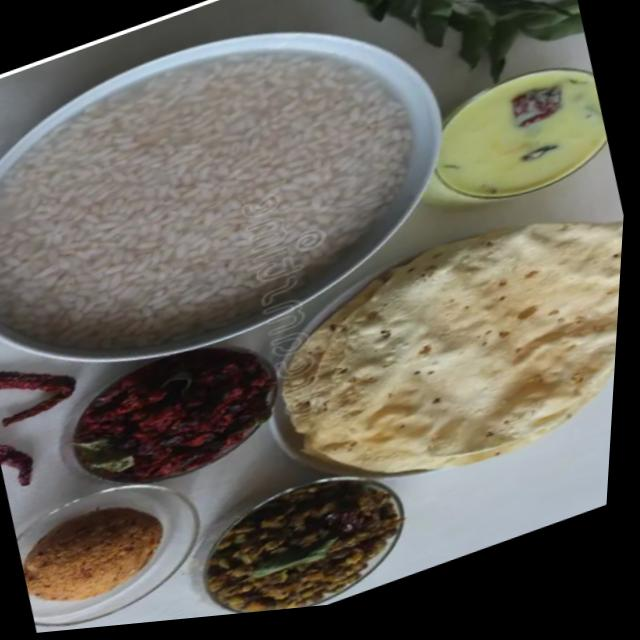PAPADAM: (304, 223, 622, 468)
PORRIDGE: (0, 55, 404, 343)
SWEET: (23, 507, 158, 597)
VEGGIES: (210, 483, 395, 608), (91, 363, 256, 472)
